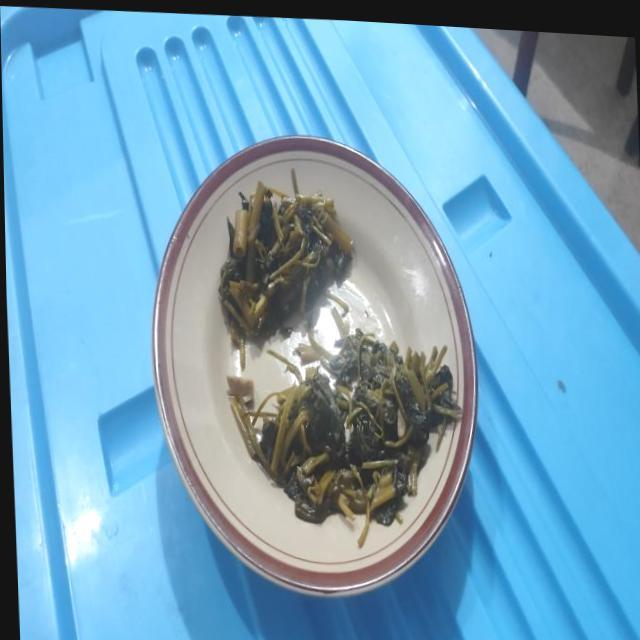tumis_kangkung: (231, 328, 461, 546), (219, 188, 351, 343)
